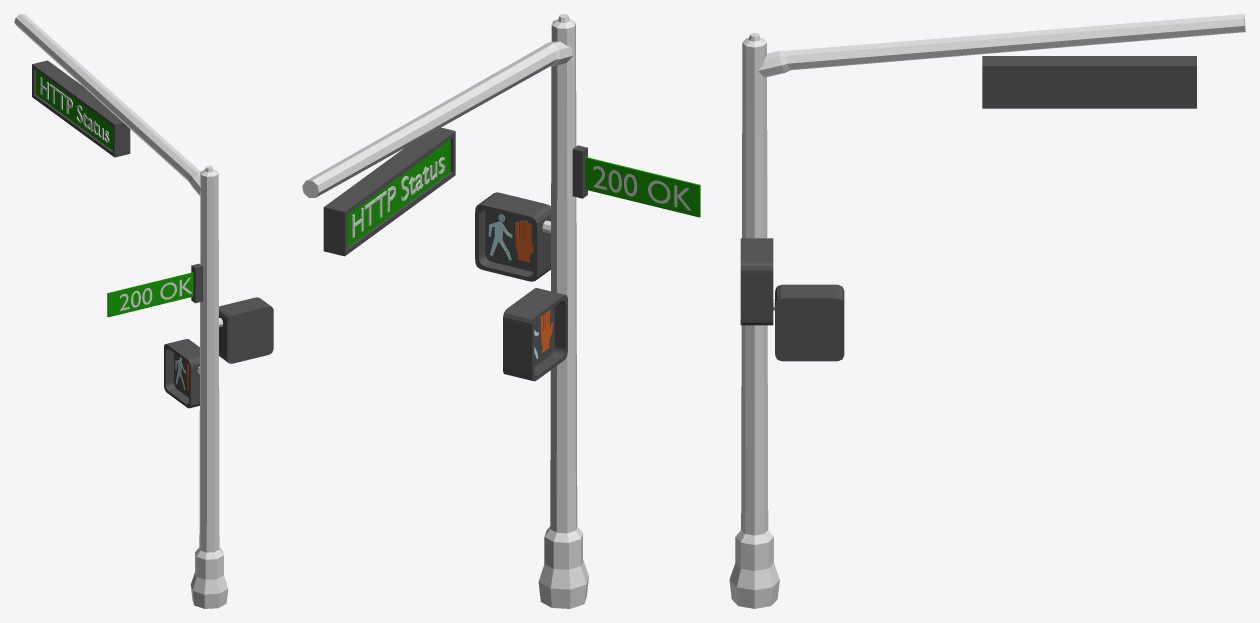
File: StreetPole.glb
3 views of the same model, side by side, from view 1: azimuth 30°, elevation 25°; view 2: azimuth 150°, elevation 25°; view 3: azimuth 270°, elevation 25° (orthographic). The views are drawn at different scales.
Visible parts, largest first — view 1: Traffic Pole, HTTP SIgn, Traffic Pole Horizontal Beam, Crossing Signal.001, 200 Ok Sign, Crossing Signal, Text HTTP Status, Text 200 OK.001; view 2: Traffic Pole, HTTP SIgn, Traffic Pole Horizontal Beam, Crossing Signal.001, Crossing Signal, 200 Ok Sign, Text HTTP Status, Text 200 OK, Walking Hand.001; view 3: Traffic Pole, HTTP SIgn, Traffic Pole Horizontal Beam, Crossing Signal, Crossing Signal.001.
Boxes of the visible parts, bbox=[...] form: Traffic Pole: bbox=[190, 165, 228, 608]; HTTP SIgn: bbox=[32, 60, 130, 157]; Traffic Pole Horizontal Beam: bbox=[14, 14, 200, 196]; Crossing Signal.001: bbox=[219, 297, 273, 363]; 200 Ok Sign: bbox=[107, 263, 202, 317]; Crossing Signal: bbox=[164, 339, 199, 408]; Text HTTP Status: bbox=[40, 77, 109, 142]; Text 200 OK.001: bbox=[120, 277, 192, 310]; Traffic Pole: bbox=[538, 14, 588, 608]; HTTP SIgn: bbox=[323, 127, 455, 256]; Traffic Pole Horizontal Beam: bbox=[302, 41, 572, 197]; Crossing Signal.001: bbox=[475, 192, 550, 281]; Crossing Signal: bbox=[503, 288, 567, 381]; 200 Ok Sign: bbox=[572, 145, 700, 217]; Text HTTP Status: bbox=[352, 157, 444, 237]; Text 200 OK: bbox=[593, 166, 691, 210]; Walking Hand.001: bbox=[515, 220, 533, 262]; Traffic Pole: bbox=[729, 33, 779, 608]; HTTP SIgn: bbox=[982, 56, 1196, 108]; Traffic Pole Horizontal Beam: bbox=[758, 14, 1245, 77]; Crossing Signal: bbox=[775, 284, 844, 361]; Crossing Signal.001: bbox=[740, 238, 773, 325].
Bounding box in the file's own units: 1.73 × 4.62 × 3.7.
